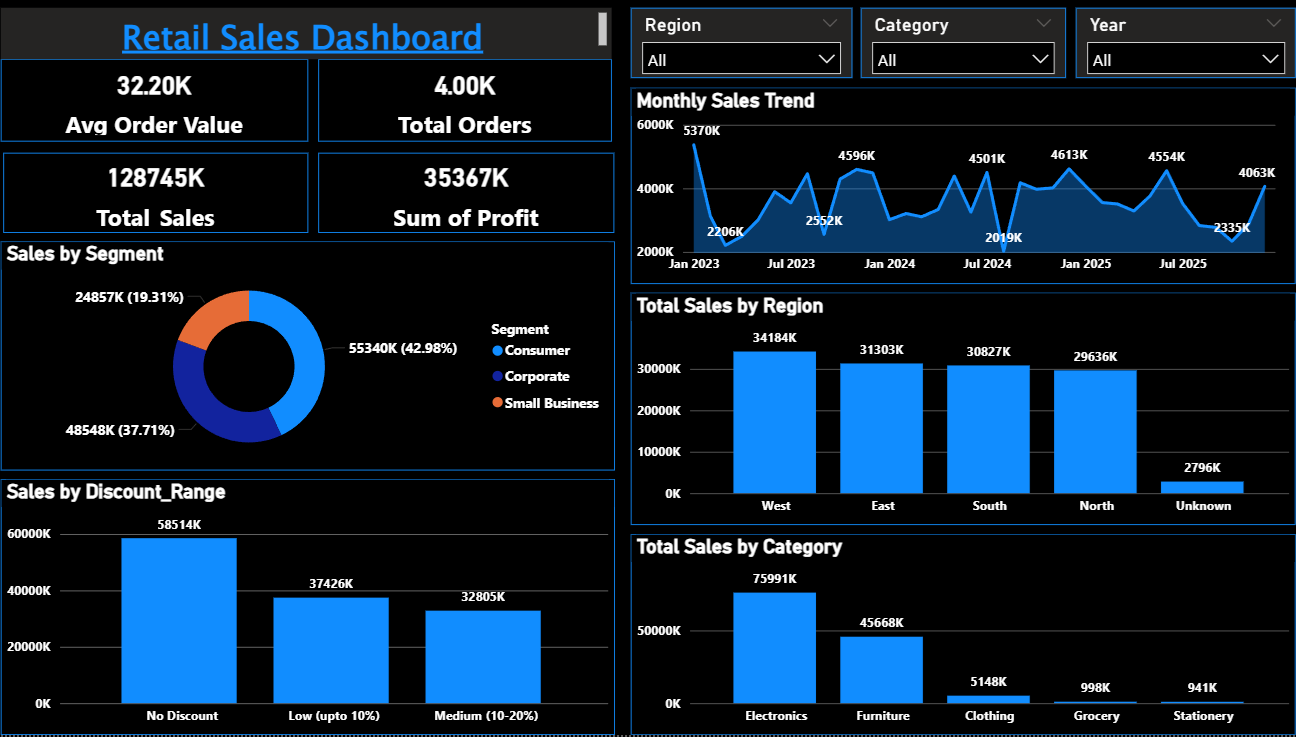

Layout of this report page (visuals, bound fields, positions):
{"tool":"powerbi","page":{"name":"Page 1","canvas":[1280,720],"ordinal":0},"visuals":[{"type":"card","fields":{"Values":["Sum(retail_project retail_sales_csv.Sales)"]},"box":[11,150.4,298.4,78.3],"z":0},{"type":"card","fields":{"Values":["Sum(retail_project retail_sales_csv.Profit)"]},"box":[319.2,150.4,289.8,78.3],"z":1000},{"type":"card","fields":{"Values":["CountNonNull(retail_project retail_sales_csv.Order_ID)"]},"box":[319.2,58.7,287.4,80.7],"z":2000},{"type":"card","fields":{"Values":["Avg(retail_project retail_sales_csv.Sales)"]},"box":[8.6,58.7,300.8,80.7],"z":3000},{"type":"clusteredColumnChart","title":"Total Sales by Region","fields":{"Y":["Sum(retail_project retail_sales_csv.Sales)"],"Category":["retail_project retail_sales_csv.Region"]},"box":[624.9,287.4,650.5,227.4],"z":4000},{"type":"clusteredColumnChart","title":"Total Sales by Category","fields":{"Y":["Sum(retail_project retail_sales_csv.Sales)"],"Category":["retail_project retail_sales_csv.Category"]},"box":[624.9,523.4,650.5,196.9],"z":5000},{"type":"lineChart","title":"Monthly Sales Trend","fields":{"Category":["retail_project retail_sales_csv.Order_Date.Variation.Date Hierarchy.Year","retail_project retail_sales_csv.Order_Date.Variation.Date Hierarchy.Month"],"Y":["Sum(retail_project retail_sales_csv.Sales)"]},"box":[624.9,86.8,650.5,192],"z":6000},{"type":"donutChart","title":"Sales by Segment","fields":{"Category":["retail_project retail_sales_csv.Segment"],"Y":["Sum(retail_project retail_sales_csv.Sales)"]},"box":[8.6,237.2,600.4,223.8],"z":7000},{"type":"columnChart","title":" Sales by Discount_Range","fields":{"Category":["retail_project retail_sales_csv.Discount_Range"],"Y":["Sum(retail_project retail_sales_csv.Sales)"]},"box":[8.6,469.6,600.4,250.7],"z":8000},{"type":"slicer","fields":{"Values":["retail_project retail_sales_csv.Region"]},"box":[624.9,8.6,216.4,68.5],"z":9000},{"type":"slicer","fields":{"Values":["retail_project retail_sales_csv.Category"]},"box":[849.9,8.6,200.5,68.5],"z":10000},{"type":"slicer","fields":{"Values":["retail_project retail_sales_csv.Order_Date.Variation.Date Hierarchy.Year"]},"box":[1060.2,8.6,215.2,68.5],"z":11000},{"type":"textbox","box":[8.6,8.6,598,50.1],"z":12000}]}

Visuals, with their boxes in screenshot pixels (x1, y1, x2, y2), scaled from the page's 1280x720 canvas onto the 1296x737 screenshot:
card - Sum(retail_project retail_sales_csv.Sales): (11,154,313,234)
card - Sum(retail_project retail_sales_csv.Profit): (323,154,617,234)
card - CountNonNull(retail_project retail_sales_csv.Order_ID): (323,60,614,143)
card - Avg(retail_project retail_sales_csv.Sales): (9,60,313,143)
"Total Sales by Region" clusteredColumnChart: (633,294,1291,527)
"Total Sales by Category" clusteredColumnChart: (633,536,1291,736)
"Monthly Sales Trend" lineChart: (633,89,1291,285)
"Sales by Segment" donutChart: (9,243,617,472)
" Sales by Discount_Range" columnChart: (9,481,617,736)
slicer - retail_project retail_sales_csv.Region: (633,9,852,79)
slicer - retail_project retail_sales_csv.Category: (861,9,1064,79)
slicer - retail_project retail_sales_csv.Order_Date.Variation.Date Hierarchy.Year: (1073,9,1291,79)
textbox: (9,9,614,60)
